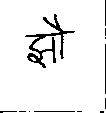ai_matra: (42, 15, 69, 32)
